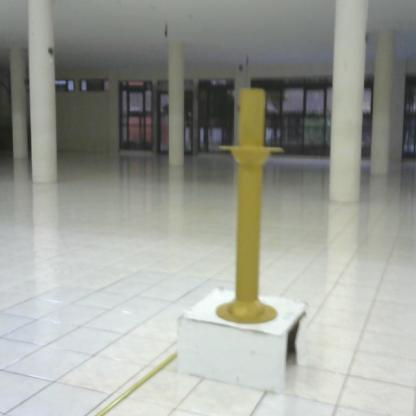pole: (214, 86, 287, 330)
